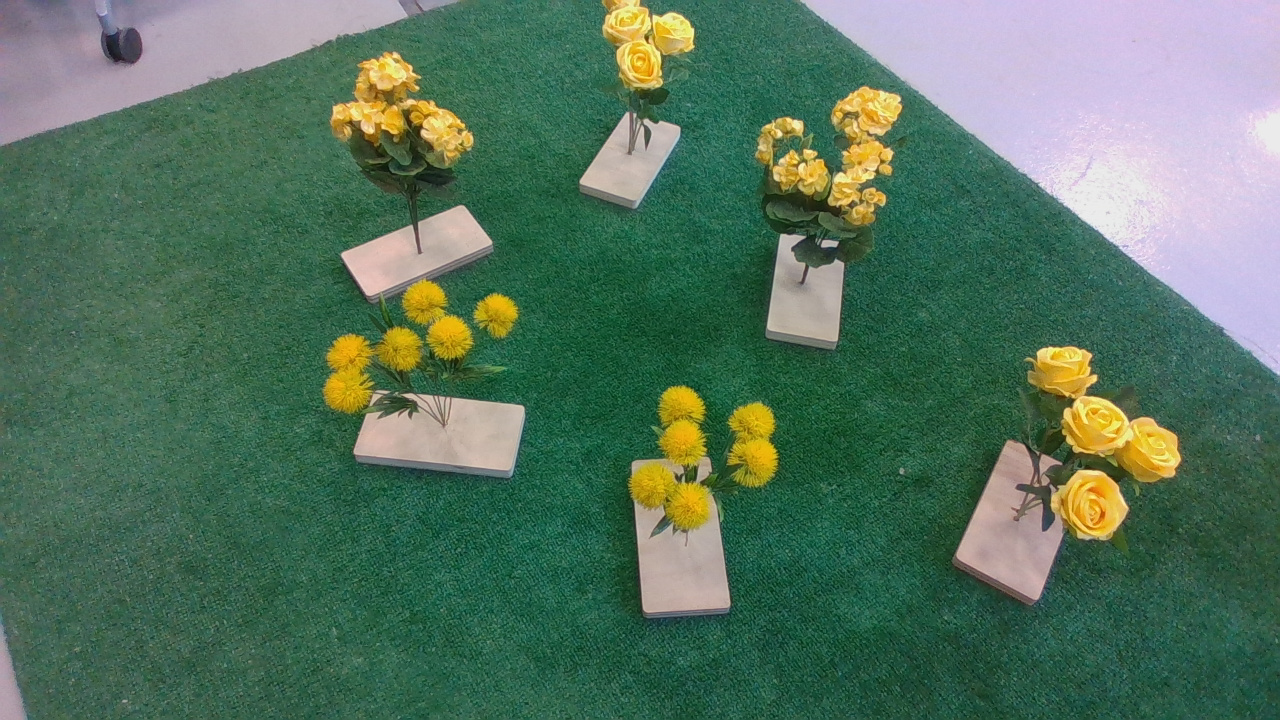dandelion: (323, 280, 556, 429), (628, 389, 794, 545)
geranium: (747, 86, 921, 278), (330, 52, 491, 207)
rose: (993, 334, 1191, 565), (583, 0, 729, 126)
